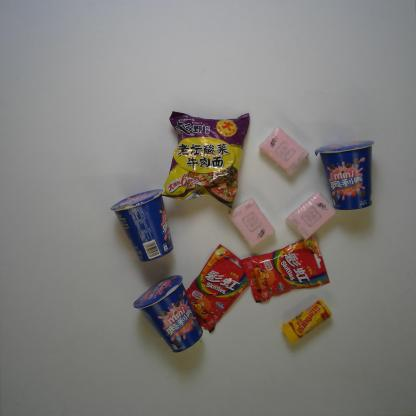Candy: (238, 237, 330, 303), (186, 244, 250, 333), (281, 299, 332, 344)
Dessert: (133, 275, 203, 353), (110, 188, 174, 262), (314, 140, 375, 211)
Instant Noodles: (161, 111, 249, 209)
Tissue: (226, 197, 275, 248), (285, 192, 336, 241), (259, 127, 309, 176)
